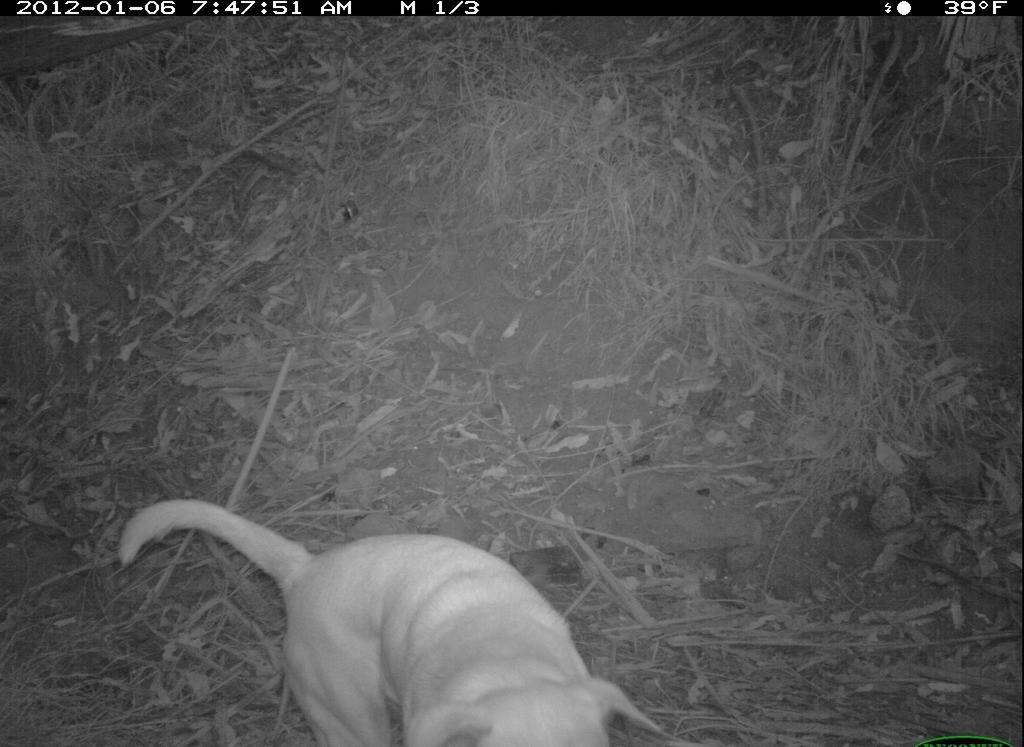dog: (105, 465, 692, 745)
